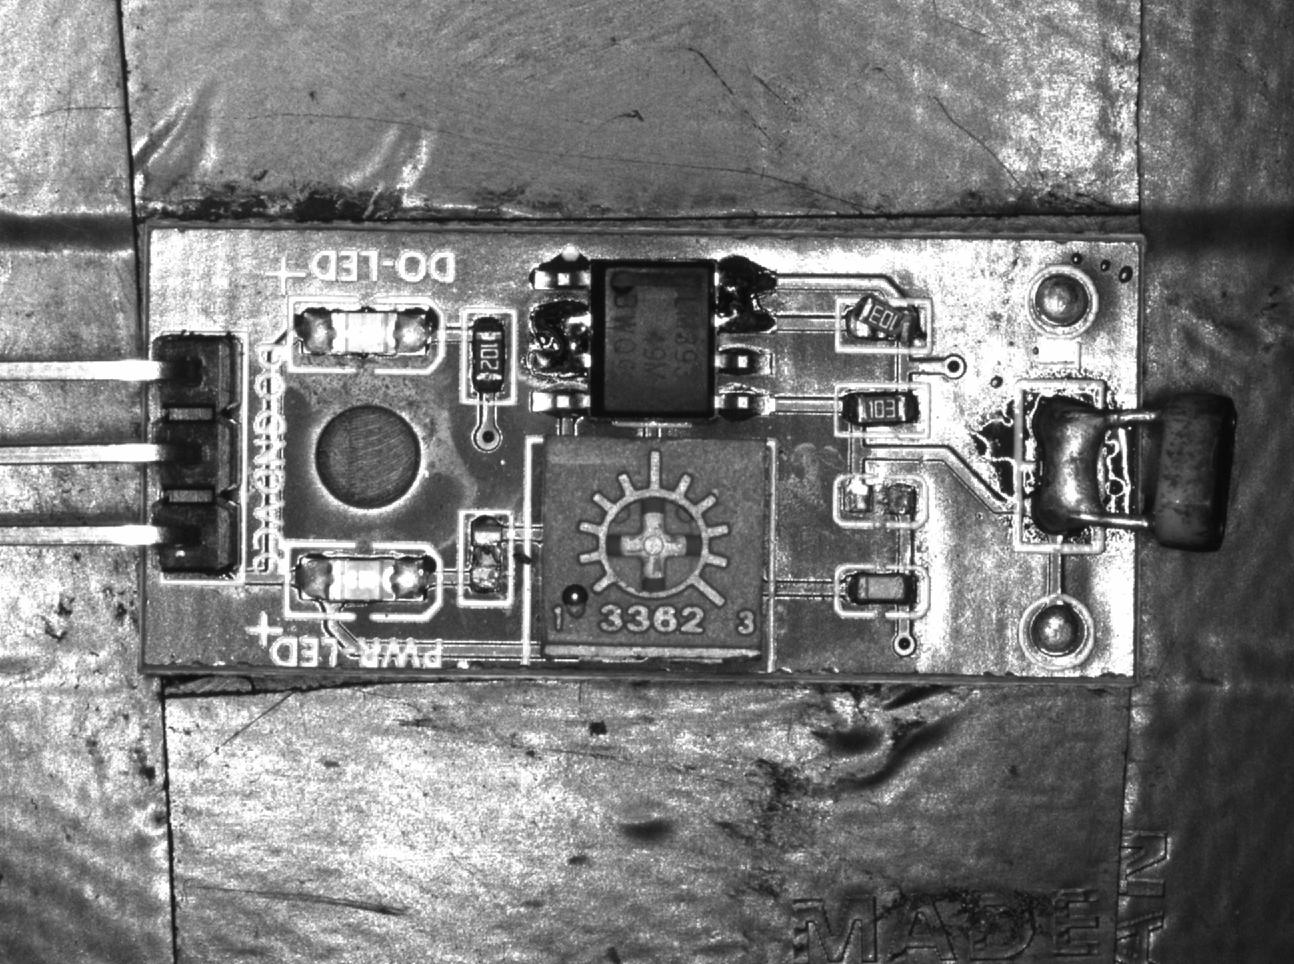bridge: (1015, 383, 1106, 554), (711, 255, 793, 343), (523, 293, 589, 381)
lifted: (835, 293, 936, 361)
miss: (459, 510, 513, 608), (836, 475, 929, 530)
ok: (464, 306, 515, 408), (834, 384, 931, 438), (838, 569, 926, 616)
